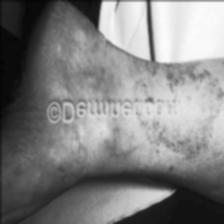Toxin: (134, 64, 218, 146)
